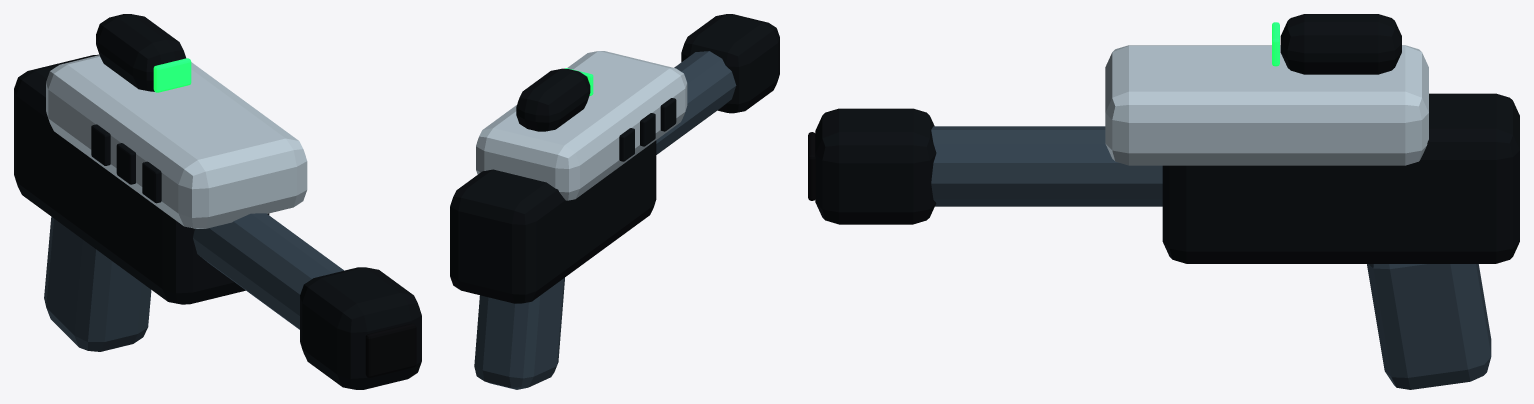
File: WISP_Rifle_v002.fbx
3 views of the same model, side by side, from view 1: azimuth 30°, elevation 25°; view 2: azimuth 150°, elevation 25°; view 3: azimuth 270°, elevation 25° (orthographic). The views are drawn at different scales.
Visible parts, largest first — view 1: Rifle upper shroud, Rifle receiver, Muzzle brake, Rifle magazine, Rifle barrel, Rifle optic, Muzzle aperture, Rifle lens, Rifle cooling slot.001, Rifle cooling slot, Rifle cooling slot.002; view 2: Rifle receiver, Rifle upper shroud, Rifle magazine, Muzzle brake, Rifle barrel, Rifle optic, Rifle cooling slot.002, Rifle cooling slot, Rifle cooling slot.001; view 3: Rifle receiver, Rifle upper shroud, Rifle barrel, Muzzle brake, Rifle magazine, Rifle optic.
Boxes of the visible parts, <box> form: Rifle upper shroud: <box>46,55,307,228</box>; Rifle receiver: <box>14,54,269,304</box>; Muzzle brake: <box>300,267,421,389</box>; Rifle magazine: <box>44,217,151,351</box>; Rifle barrel: <box>193,213,343,329</box>; Rifle optic: <box>96,14,185,91</box>; Muzzle aperture: <box>365,323,416,377</box>; Rifle lens: <box>153,58,191,92</box>; Rifle cooling slot.001: <box>116,143,135,184</box>; Rifle cooling slot: <box>91,124,110,165</box>; Rifle cooling slot.002: <box>142,161,161,203</box>; Rifle receiver: <box>450,140,656,303</box>; Rifle upper shroud: <box>476,51,687,200</box>; Rifle magazine: <box>474,278,564,389</box>; Muzzle brake: <box>681,14,779,113</box>; Rifle barrel: <box>656,51,736,154</box>; Rifle optic: <box>516,68,590,131</box>; Rifle cooling slot.002: <box>660,98,676,131</box>; Rifle cooling slot: <box>619,128,634,161</box>; Rifle cooling slot.001: <box>640,113,655,146</box>; Rifle receiver: <box>1162,93,1519,263</box>; Rifle upper shroud: <box>1105,45,1428,165</box>; Rifle barrel: <box>931,126,1162,206</box>; Muzzle brake: <box>815,108,936,224</box>; Rifle magazine: <box>1367,264,1491,389</box>; Rifle optic: <box>1280,14,1401,74</box>.
Size of the model in its own units: 0.241 by 0.5928 by 1.06.
1 material, 1 textured.
